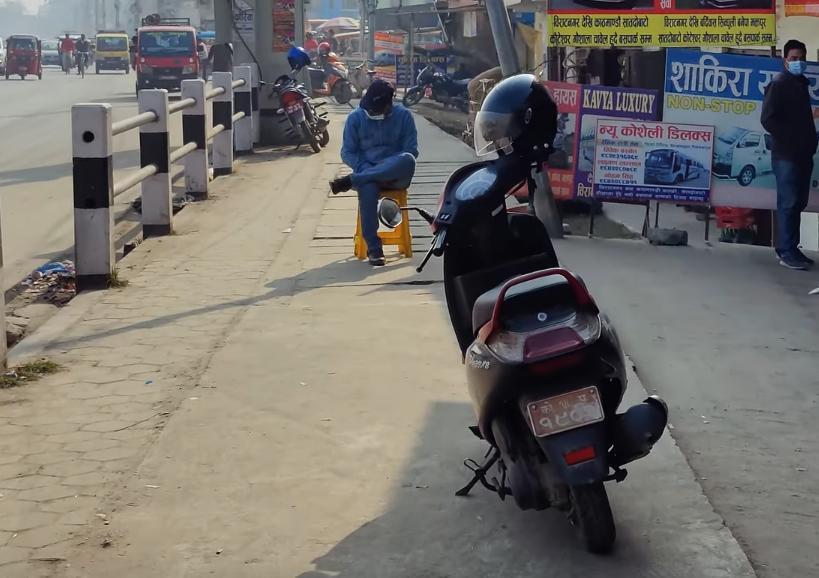auto_rickshaw: (4, 32, 45, 83)
bike: (262, 71, 338, 155)
scooter: (368, 137, 668, 562), (302, 47, 354, 107)
